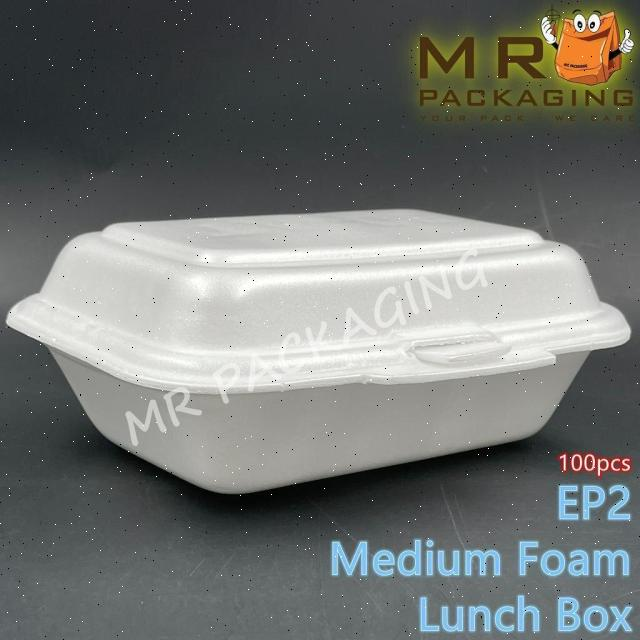styrofoam: (5, 205, 631, 496)
